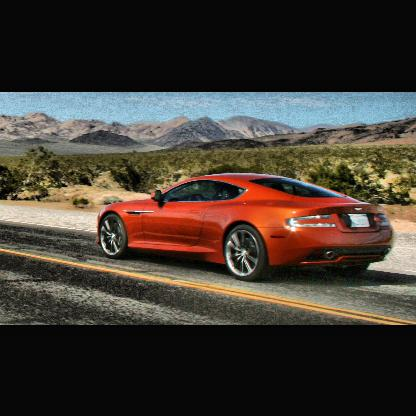Aston Martin Virage Coupe 2012: (97, 168, 396, 285)
